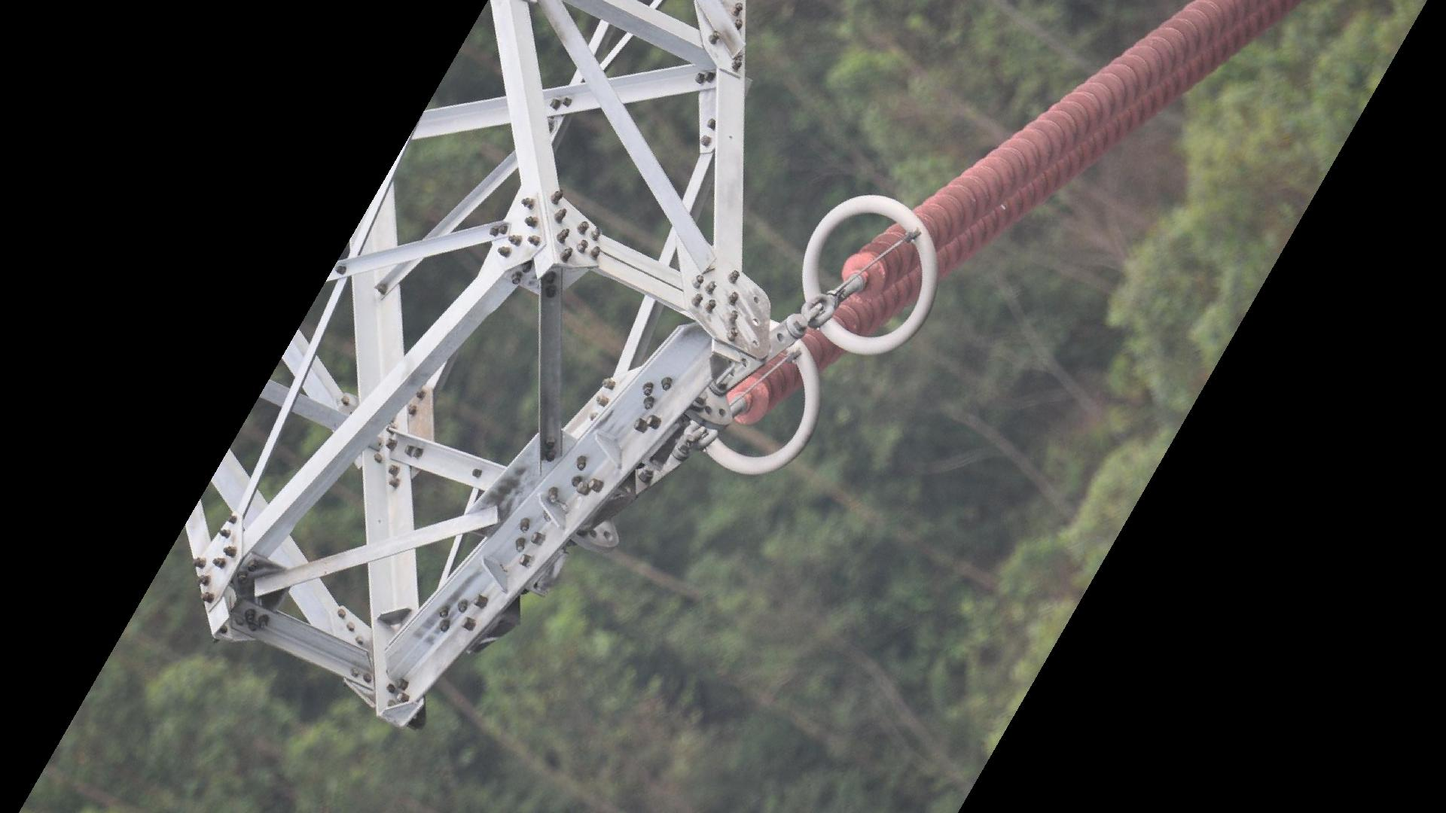insulator: (709, 1, 1304, 432)
